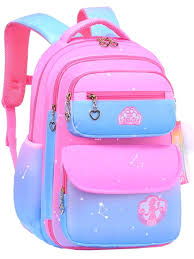bag: (3, 1, 187, 251)
